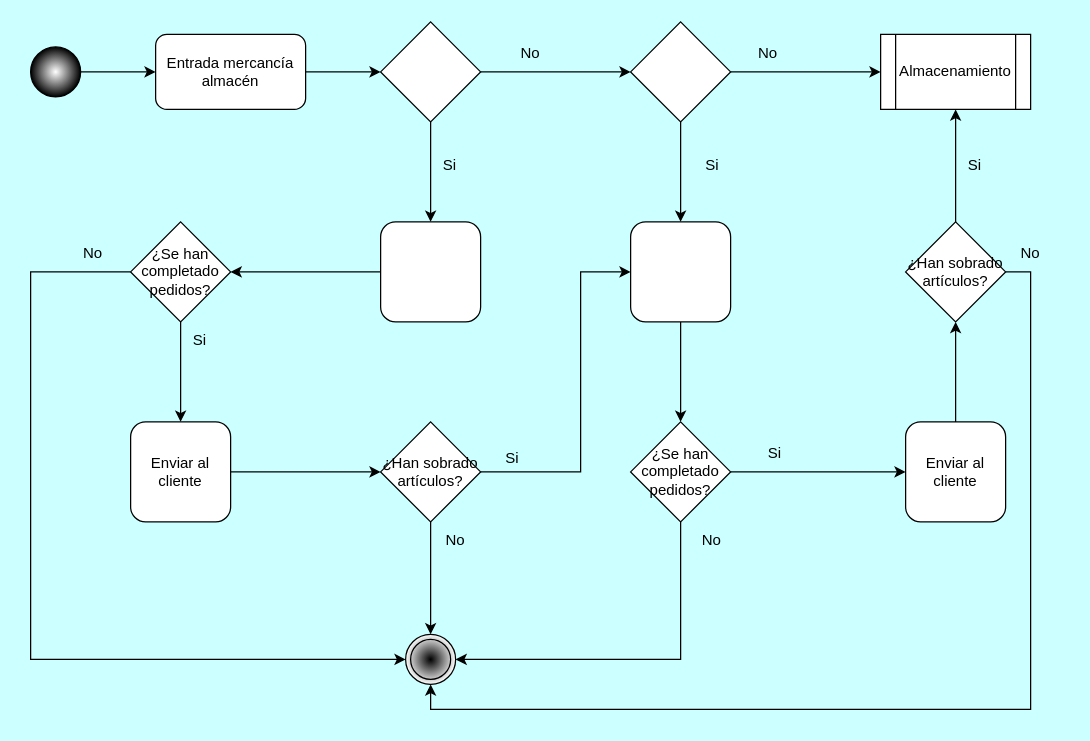
Some shapes in this 1090 by 741 pixel diagram are drawn without their labels. The shapes that lost their labels are listed below. From the top down, each one's centre as x and y in pixels, then its label:
At [430,71]: "¿Hay pedidos sobresalientes por completar?".
At [680,71]: "¿Hay pedidos Normales por completar?".
At [430,271]: "Completar pedidos sobresalientes".
At [680,271]: "Completar pedidos normales".
